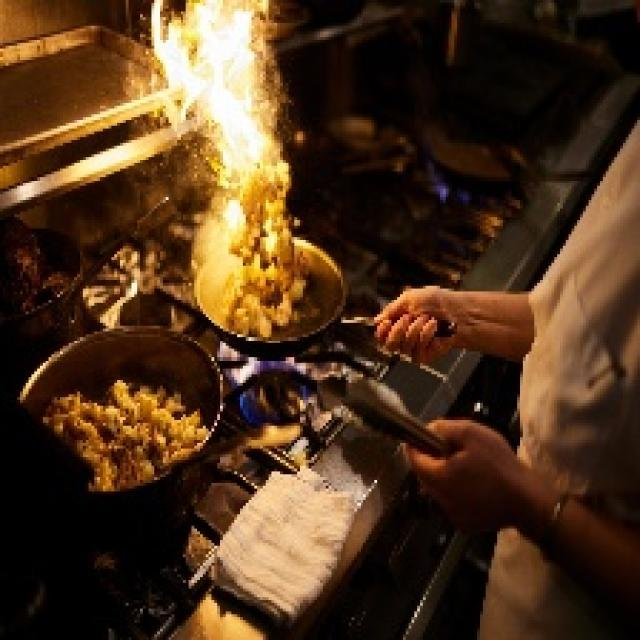Fire: (143, 0, 283, 171)
